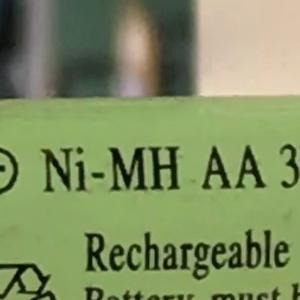keyword: (31, 136, 185, 202)
